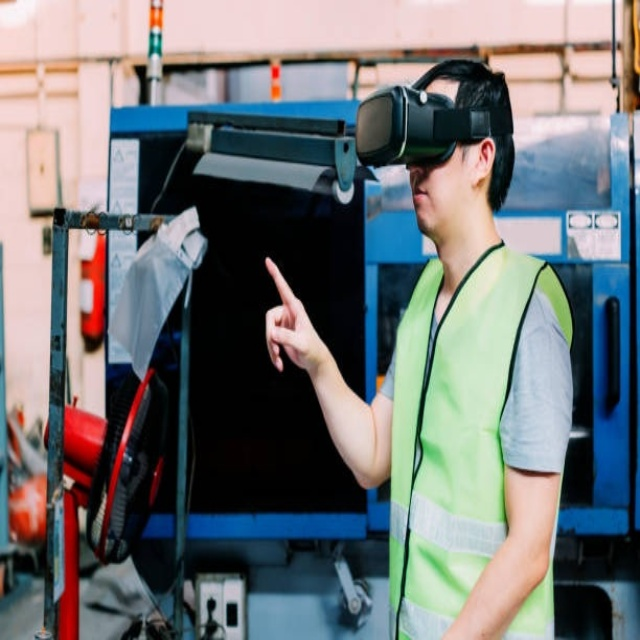Sin_guantes: (259, 253, 315, 375)
Sin_mascara: (408, 180, 438, 231)
